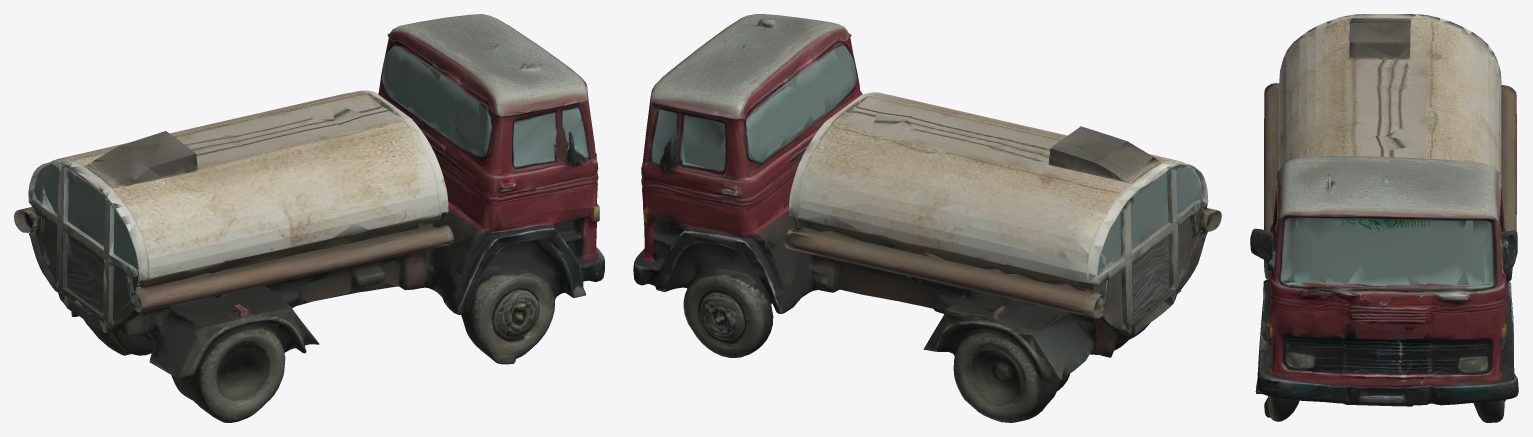
Rendered from checkpoint_truck_source.glb.
3 renders of one model, left to right at view 1: azimuth 30°, elevation 25°; view 2: azimuth 150°, elevation 25°; view 3: azimuth 270°, elevation 25°, orthographic.
Visible parts, largest first — view 1: tripo_node_168b1a8b; view 2: tripo_node_168b1a8b; view 3: tripo_node_168b1a8b.
Boxes of the visible parts, x1,y1,x2,y2 form: tripo_node_168b1a8b: [14, 14, 604, 422]; tripo_node_168b1a8b: [633, 14, 1221, 422]; tripo_node_168b1a8b: [1250, 14, 1518, 422].
Bounding box in the file's own units: 5 × 2.7 × 2.49.
1 material, 1 textured.
